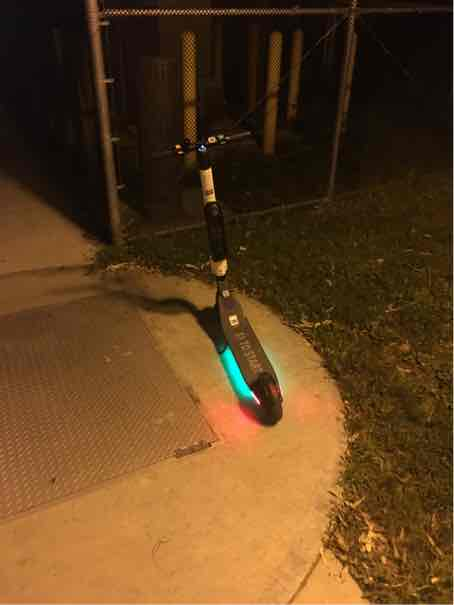scooter: (142, 126, 301, 448)
